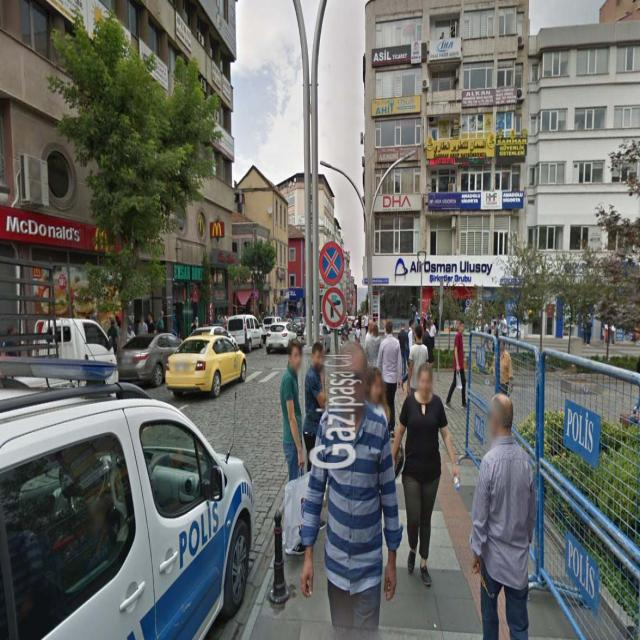sagadonulmez: (324, 289, 345, 328)
